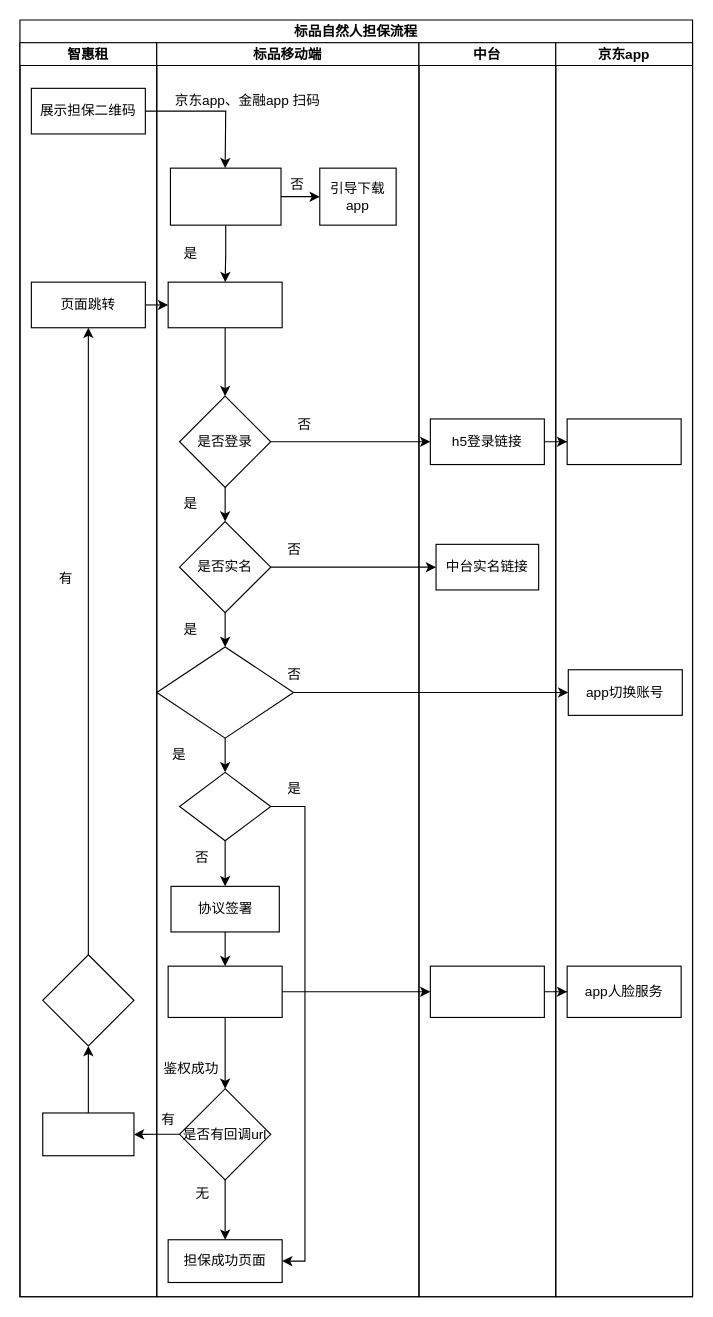
The diagram is 713 pixels wide and 1317 high, and some of its shapes have lost their labels. The centre of each missing label's shape, as x and y in pixels:
唤起app登录: (623,441)
担保人与当前 用户是否一致: (225,692)
担保回调页面: (88,1134)
接口查询登录态: (224,304)
是否在京东app 或者金融app: (225,196)
是否完成: (224,806)
是否有其它 担保人: (88,1000)
鉴权: (224,991)
鉴权组件: (486,991)
